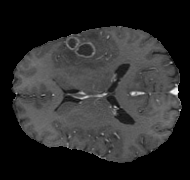Edema: (62, 29, 114, 72)
EnhancingTumors: (64, 36, 99, 65)
Necrosis: (66, 38, 97, 63)
